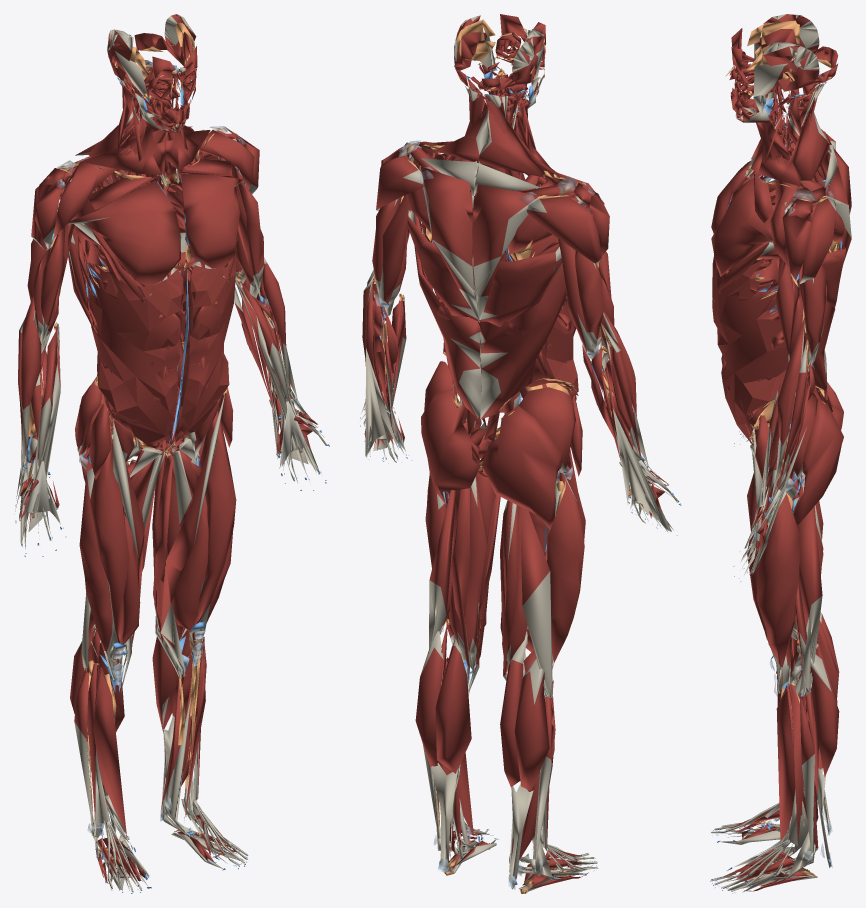
The model's file is adult_male.muscular.LOD4.glb.
3 renders of one model, left to right at view 1: azimuth 30°, elevation 25°; view 2: azimuth 150°, elevation 25°; view 3: azimuth 270°, elevation 25°, orthographic. The views are drawn at different scales.
Parts seen in each view (by area): view 1: ADULT.MALE.MUSCULAR.EXTERNAL_ABDOMINAL_OBLIQUE_MUSCLE.R, ADULT.MALE.MUSCULAR.STERNOCOSTAL_HEAD_OF_PECTORALIS_MAJOR_MU (×2), ADULT.MALE.MUSCULAR.EXTERNAL_ABDOMINAL_OBLIQUE_MUSCLE.L, ADULT.MALE.MUSCULAR.RECTUS_FEMORIS_MUSCLE.R, ADULT.MALE.MUSCULAR.RECTUS_FEMORIS_MUSCLE.L, ADULT.MALE.MUSCULAR.SARTORIUS_MUSCLE.L, ADULT.MALE.MUSCULAR.VASTUS_LATERALIS_MUSCLE.R, ADULT.MALE.MUSCULAR.TIBIALIS_ANTERIOR_MUSCLE.R, ADULT.MALE.MUSCULAR.PLATYSMA.R, ADULT.MALE.MUSCULAR.VASTUS_MEDIALIS_MUSCLE.L, ADULT.MALE.MUSCULAR.BRACHIORADIALIS_MUSCLE.R, ADULT.MALE.MUSCULAR.CLAVICULAR_HEAD_OF_PECTORALIS_MAJOR_MUSC (×2) (+40 smaller); view 2: ADULT.MALE.MUSCULAR.LATISSIMUS_DORSI_MUSCLE.R, ADULT.MALE.MUSCULAR.GLUTEUS_MAXIMUS_MUSCLE.R, ADULT.MALE.MUSCULAR.LATISSIMUS_DORSI_MUSCLE.L, ADULT.MALE.MUSCULAR.DESCENDING_PART_OF_TRAPEZIUS_MUSCLE.L, ADULT.MALE.MUSCULAR.VASTUS_LATERALIS_MUSCLE.R, ADULT.MALE.MUSCULAR.DESCENDING_PART_OF_TRAPEZIUS_MUSCLE.R, ADULT.MALE.MUSCULAR.GLUTEUS_MAXIMUS_MUSCLE.L, ADULT.MALE.MUSCULAR.LONG_HEAD_OF_BICEPS_FEMORIS.R, ADULT.MALE.MUSCULAR.MEDIAL_HEAD_OF_GASTROCNEMIUS.L, ADULT.MALE.MUSCULAR.LATERAL_HEAD_OF_GASTROCNEMIUS.R, ADULT.MALE.MUSCULAR.SEMIMEMBRANOSUS_MUSCLE.L, ADULT.MALE.MUSCULAR.SCAPULAR_SPINAL_PART_OF_DELTOID_MUSCLE.R (+36 smaller); view 3: ADULT.MALE.MUSCULAR.EXTERNAL_ABDOMINAL_OBLIQUE_MUSCLE.L, ADULT.MALE.MUSCULAR.VASTUS_LATERALIS_MUSCLE.L, ADULT.MALE.MUSCULAR.STERNOCOSTAL_HEAD_OF_PECTORALIS_MAJOR_MU (×2), ADULT.MALE.MUSCULAR.GLUTEUS_MAXIMUS_MUSCLE.L, ADULT.MALE.MUSCULAR.LONG_HEAD_OF_BICEPS_FEMORIS.L, ADULT.MALE.MUSCULAR.TIBIALIS_ANTERIOR_MUSCLE.L, ADULT.MALE.MUSCULAR.LATERAL_HEAD_OF_GASTROCNEMIUS.L, ADULT.MALE.MUSCULAR.PLATYSMA.L, ADULT.MALE.MUSCULAR.SCAPULAR_SPINAL_PART_OF_DELTOID_MUSCLE.L, ADULT.MALE.MUSCULAR.BRACHIORADIALIS_MUSCLE.L, ADULT.MALE.MUSCULAR.LATISSIMUS_DORSI_MUSCLE.L, ADULT.MALE.MUSCULAR.FIBULARIS_LONGUS_MUSCLE.L (+43 smaller).
Boxes of the visible parts, left/top/right/bottom form: ADULT.MALE.MUSCULAR.EXTERNAL_ABDOMINAL_OBLIQUE_MUSCLE.R: left=87, top=251, right=183, bottom=443; ADULT.MALE.MUSCULAR.STERNOCOSTAL_HEAD_OF_PECTORALIS_MAJOR_MU (×2): left=67, top=174, right=243, bottom=286; ADULT.MALE.MUSCULAR.EXTERNAL_ABDOMINAL_OBLIQUE_MUSCLE.L: left=176, top=251, right=235, bottom=441; ADULT.MALE.MUSCULAR.RECTUS_FEMORIS_MUSCLE.R: left=90, top=426, right=129, bottom=682; ADULT.MALE.MUSCULAR.RECTUS_FEMORIS_MUSCLE.L: left=189, top=410, right=236, bottom=663; ADULT.MALE.MUSCULAR.SARTORIUS_MUSCLE.L: left=160, top=394, right=224, bottom=676; ADULT.MALE.MUSCULAR.VASTUS_LATERALIS_MUSCLE.R: left=79, top=468, right=115, bottom=679; ADULT.MALE.MUSCULAR.TIBIALIS_ANTERIOR_MUSCLE.R: left=93, top=667, right=126, bottom=835; ADULT.MALE.MUSCULAR.PLATYSMA.R: left=81, top=106, right=176, bottom=174; ADULT.MALE.MUSCULAR.VASTUS_MEDIALIS_MUSCLE.L: left=172, top=495, right=208, bottom=655; ADULT.MALE.MUSCULAR.BRACHIORADIALIS_MUSCLE.R: left=20, top=295, right=41, bottom=465; ADULT.MALE.MUSCULAR.CLAVICULAR_HEAD_OF_PECTORALIS_MAJOR_MUSC (×2): left=71, top=159, right=243, bottom=220; ADULT.MALE.MUSCULAR.LATISSIMUS_DORSI_MUSCLE.R: left=480, top=247, right=566, bottom=419; ADULT.MALE.MUSCULAR.GLUTEUS_MAXIMUS_MUSCLE.R: left=482, top=405, right=562, bottom=529; ADULT.MALE.MUSCULAR.LATISSIMUS_DORSI_MUSCLE.L: left=407, top=210, right=481, bottom=418; ADULT.MALE.MUSCULAR.DESCENDING_PART_OF_TRAPEZIUS_MUSCLE.L: left=420, top=166, right=479, bottom=321; ADULT.MALE.MUSCULAR.VASTUS_LATERALIS_MUSCLE.R: left=547, top=473, right=584, bottom=669; ADULT.MALE.MUSCULAR.DESCENDING_PART_OF_TRAPEZIUS_MUSCLE.R: left=473, top=184, right=539, bottom=322; ADULT.MALE.MUSCULAR.GLUTEUS_MAXIMUS_MUSCLE.L: left=421, top=389, right=480, bottom=504; ADULT.MALE.MUSCULAR.LONG_HEAD_OF_BICEPS_FEMORIS.R: left=520, top=506, right=552, bottom=698; ADULT.MALE.MUSCULAR.MEDIAL_HEAD_OF_GASTROCNEMIUS.L: left=435, top=638, right=471, bottom=773; ADULT.MALE.MUSCULAR.LATERAL_HEAD_OF_GASTROCNEMIUS.R: left=514, top=658, right=549, bottom=790; ADULT.MALE.MUSCULAR.SEMIMEMBRANOSUS_MUSCLE.L: left=449, top=476, right=487, bottom=674; ADULT.MALE.MUSCULAR.SCAPULAR_SPINAL_PART_OF_DELTOID_MUSCLE.R: left=527, top=196, right=601, bottom=264; ADULT.MALE.MUSCULAR.EXTERNAL_ABDOMINAL_OBLIQUE_MUSCLE.L: left=712, top=258, right=788, bottom=440; ADULT.MALE.MUSCULAR.VASTUS_LATERALIS_MUSCLE.L: left=756, top=490, right=800, bottom=693; ADULT.MALE.MUSCULAR.STERNOCOSTAL_HEAD_OF_PECTORALIS_MAJOR_MU (×2): left=711, top=161, right=772, bottom=276; ADULT.MALE.MUSCULAR.GLUTEUS_MAXIMUS_MUSCLE.L: left=793, top=397, right=843, bottom=526; ADULT.MALE.MUSCULAR.LONG_HEAD_OF_BICEPS_FEMORIS.L: left=797, top=506, right=822, bottom=696; ADULT.MALE.MUSCULAR.TIBIALIS_ANTERIOR_MUSCLE.L: left=776, top=685, right=795, bottom=840; ADULT.MALE.MUSCULAR.LATERAL_HEAD_OF_GASTROCNEMIUS.L: left=797, top=645, right=839, bottom=776; ADULT.MALE.MUSCULAR.PLATYSMA.L: left=737, top=108, right=800, bottom=186; ADULT.MALE.MUSCULAR.SCAPULAR_SPINAL_PART_OF_DELTOID_MUSCLE.L: left=799, top=197, right=835, bottom=283; ADULT.MALE.MUSCULAR.BRACHIORADIALIS_MUSCLE.L: left=771, top=317, right=804, bottom=498; ADULT.MALE.MUSCULAR.LATISSIMUS_DORSI_MUSCLE.L: left=798, top=245, right=845, bottom=399; ADULT.MALE.MUSCULAR.FIBULARIS_LONGUS_MUSCLE.L: left=771, top=692, right=815, bottom=874.
Bounding box in the file's own units: 0.6604 × 1.67 × 0.2572.
